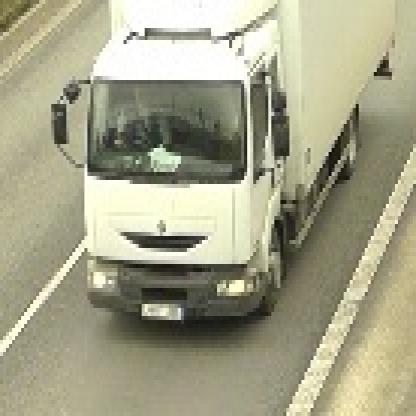truck: (52, 1, 390, 325)
